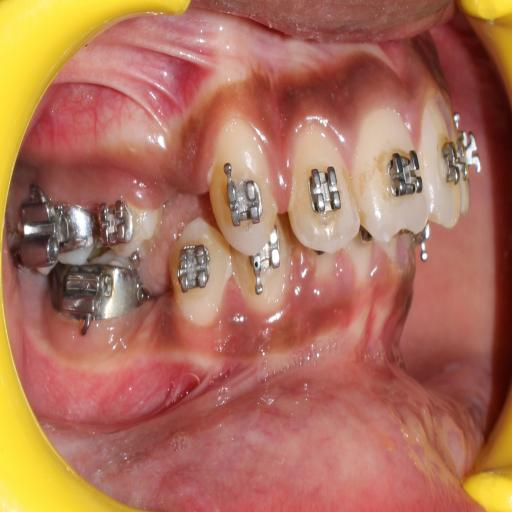correct_brace: (222, 159, 266, 228), (383, 140, 424, 208), (306, 155, 345, 225)
incorrect_brace: (289, 120, 357, 254)
